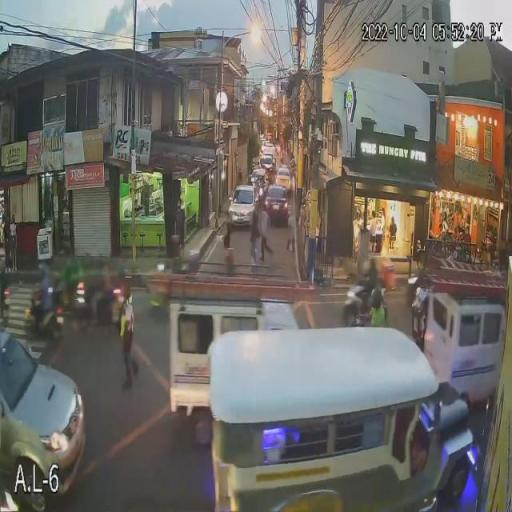helmet: (370, 287, 383, 311), (36, 263, 50, 280), (364, 258, 378, 273)
motorcycle: (23, 307, 68, 341), (343, 281, 369, 313), (351, 314, 370, 327)
rider: (35, 280, 53, 323), (370, 309, 390, 325), (366, 272, 378, 285)
